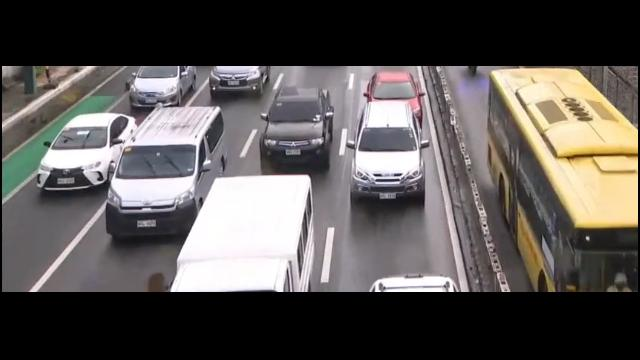bus: (485, 66, 640, 294)
car: (36, 113, 144, 205), (349, 95, 428, 208), (365, 63, 429, 131), (127, 63, 199, 108), (208, 65, 270, 97)
pickup-truck: (261, 85, 336, 172)
van: (110, 106, 241, 239), (167, 174, 316, 290)
